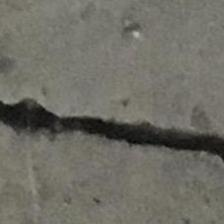Crack: (0, 30, 224, 224)
